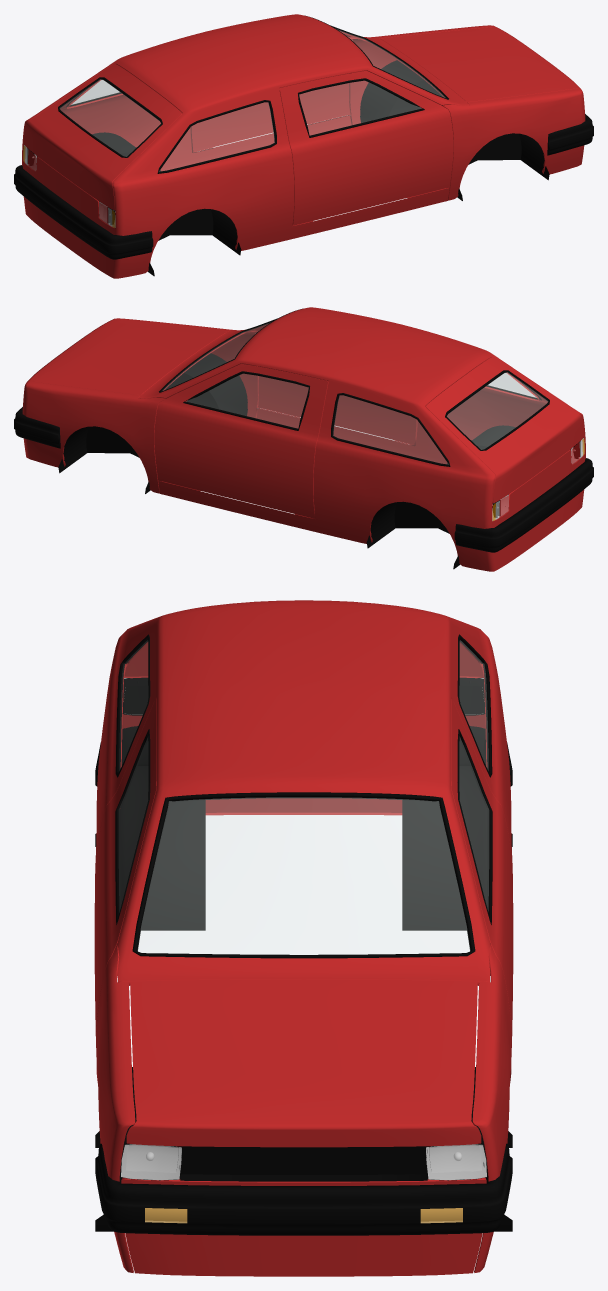
Rendered from cuiabano-molde_lod2.glb.
3 views of the same model, one above another, from view 1: azimuth 30°, elevation 25°; view 2: azimuth 150°, elevation 25°; view 3: azimuth 270°, elevation 25° (orthographic). The views are drawn at different scales.
Parts seen in each view (by area): view 1: body, door_fr, hood, trunk, fender_front_right, glass_door_rr, glass_rear, glass_door_fr, door_fl, bumper_rear, glass_windshield, fender_front_left (+2 smaller); view 2: body, door_fl, hood, trunk, fender_front_left, glass_door_rl, glass_rear, glass_door_fl, door_fr, bumper_rear, glass_windshield, fender_front_right (+2 smaller); view 3: body, hood, glass_windshield, bumper_front, grille, fender_front_left, fender_front_right, door_fl, door_fr, glass_door_fr, glass_door_fl, glass_door_rl (+7 smaller).
Part boxes in pixels (box(x1,y1,x2,y2)): body: box(22, 14, 549, 278); door_fr: box(279, 70, 453, 225); hood: box(380, 27, 580, 102); trunk: box(23, 63, 182, 210); fender_front_right: box(442, 88, 585, 200); glass_door_rr: box(157, 100, 276, 173); glass_rear: box(58, 77, 162, 157); glass_door_fr: box(298, 78, 424, 137); door_fl: box(191, 39, 352, 152); bumper_rear: box(14, 165, 153, 259); glass_windshield: box(305, 15, 448, 99); fender_front_left: box(349, 25, 495, 124); body: box(58, 307, 585, 571); door_fl: box(154, 363, 328, 518); hood: box(27, 320, 227, 395); trunk: box(425, 356, 584, 503); fender_front_left: box(22, 381, 165, 493); glass_door_rl: box(331, 393, 450, 466); glass_rear: box(445, 370, 549, 450); glass_door_fl: box(183, 371, 309, 430); door_fr: box(255, 332, 416, 445); bumper_rear: box(454, 458, 593, 552); glass_windshield: box(159, 308, 302, 392); fender_front_right: box(112, 318, 258, 417); body: box(95, 600, 512, 1276); hood: box(126, 979, 481, 1147); glass_windshield: box(132, 792, 475, 958); bumper_front: box(95, 1143, 512, 1235); grille: box(180, 1146, 427, 1181); fender_front_left: box(472, 943, 511, 1272); fender_front_right: box(96, 943, 135, 1272); door_fl: box(451, 699, 513, 1047); door_fr: box(94, 699, 156, 1047); glass_door_fr: box(115, 729, 150, 924); glass_door_fl: box(457, 729, 492, 924); glass_door_rl: box(457, 634, 492, 777).
Size of the model in its own units: 3.81 by 1.13 by 1.4.
9 materials, 1 textured.
